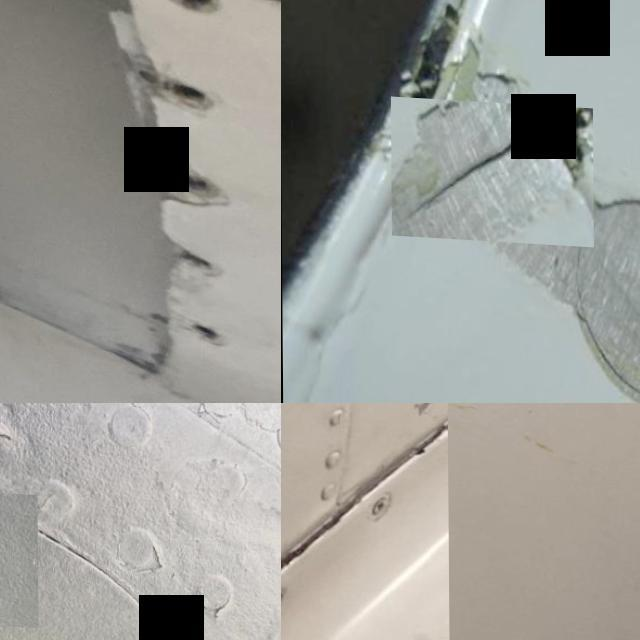Crack: (281, 403, 448, 640), (391, 95, 594, 244)
Missing_Fastener: (0, 485, 37, 624), (162, 72, 210, 100)
